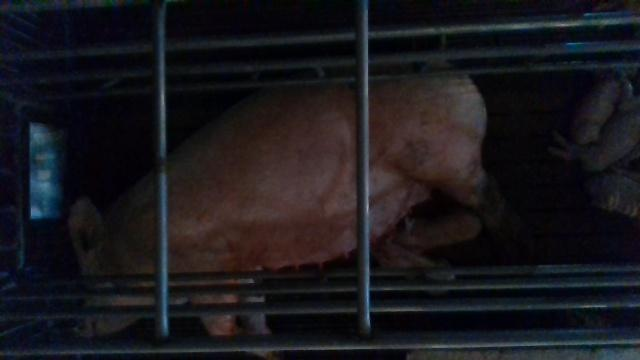piglet: (545, 79, 640, 168), (570, 68, 638, 145), (374, 237, 456, 295), (400, 212, 482, 245), (586, 172, 640, 218)
sow-sleep-lactate: (66, 65, 487, 337)
